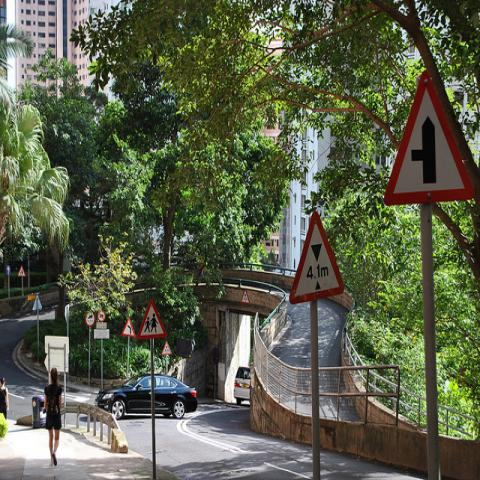car: (95, 372, 198, 419), (234, 366, 251, 405)
